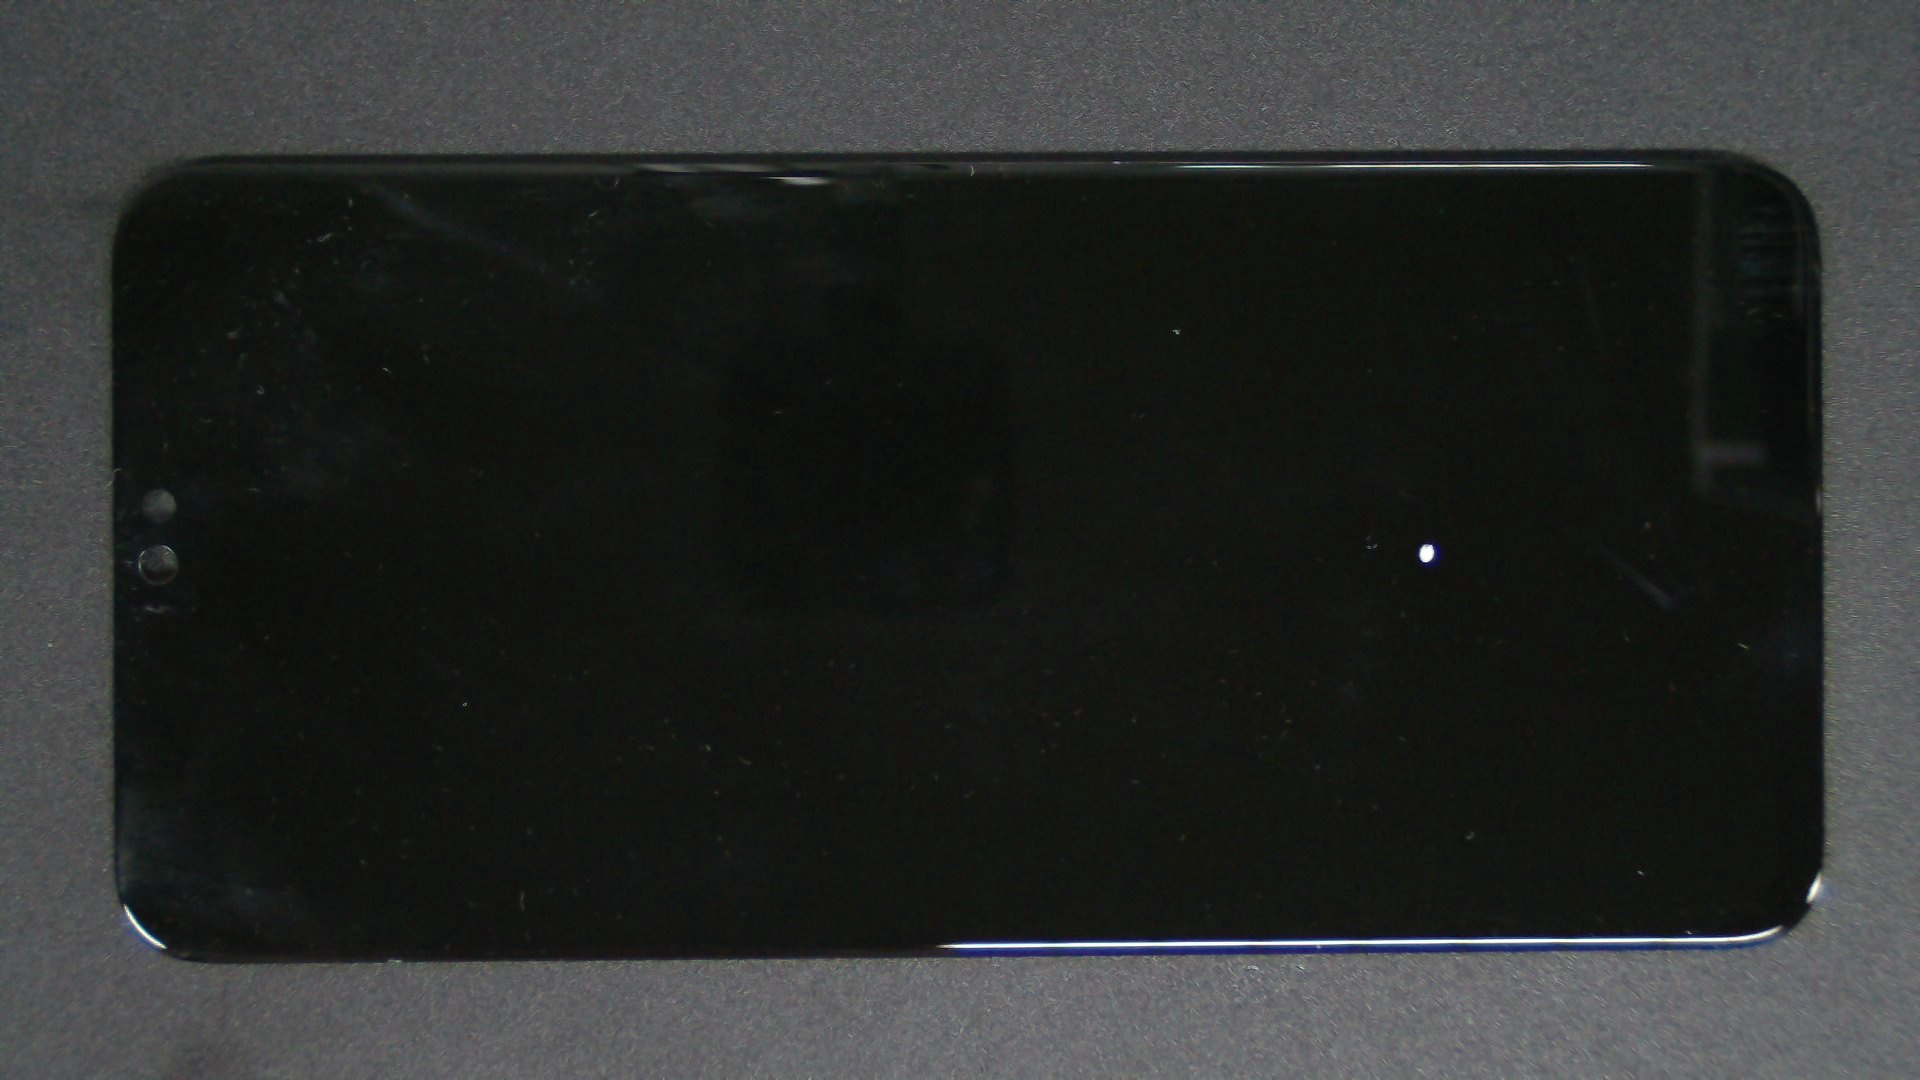oil: (715, 270, 1920, 814)
